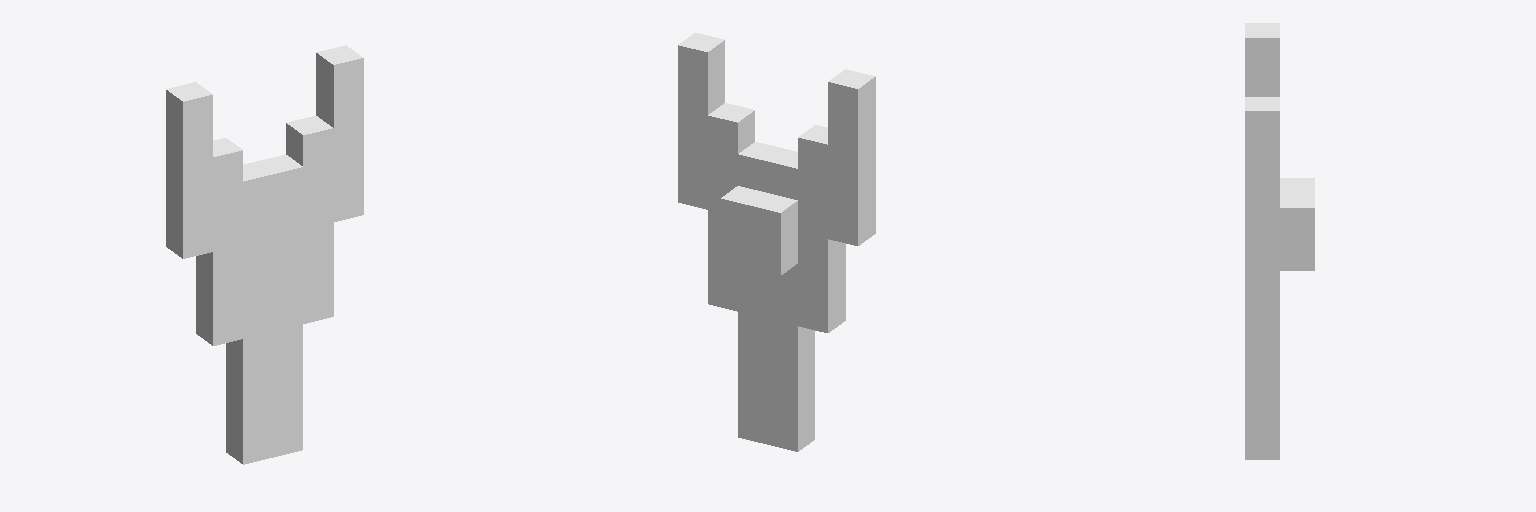
The model's file is destroyer_minion.obj.
3 renders of one model, left to right at view 1: azimuth 30°, elevation 25°; view 2: azimuth 150°, elevation 25°; view 3: azimuth 270°, elevation 25°, orthographic.
Parts seen in each view (by area): view 1: destroyer_minion; view 2: destroyer_minion; view 3: destroyer_minion.
Boxes of the visible parts, <box> form: destroyer_minion: <box>166,45,363,464</box>; destroyer_minion: <box>678,33,875,451</box>; destroyer_minion: <box>1245,23,1314,459</box>.
Bounding box in the file's own units: 6 × 12 × 2.